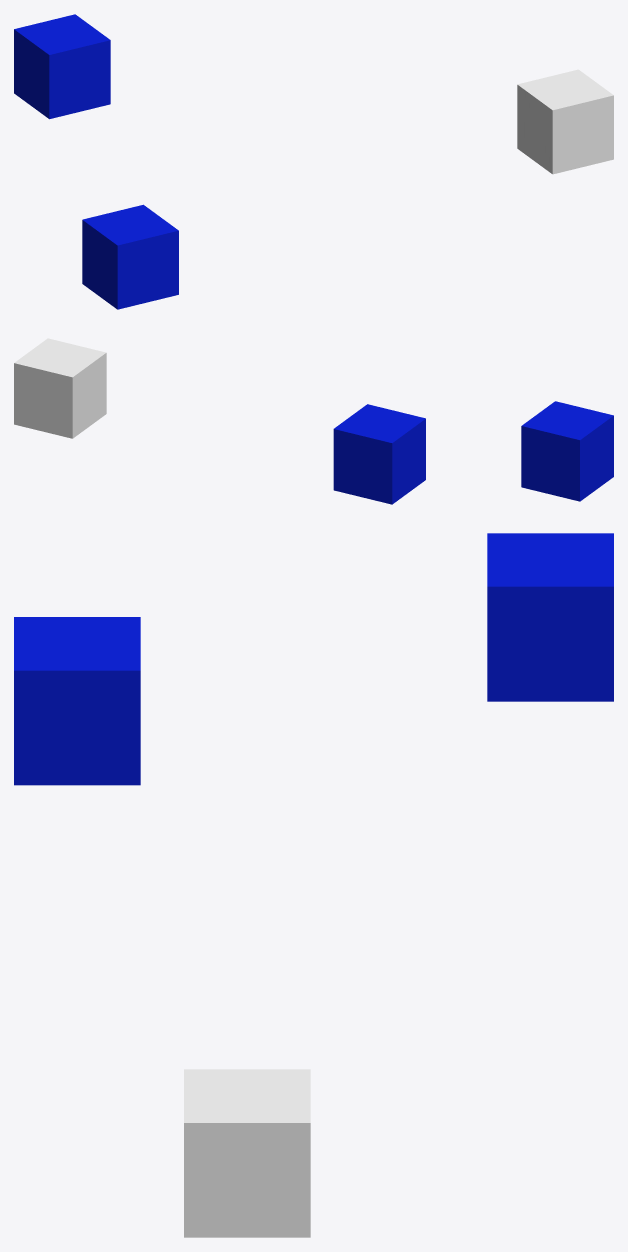
File: room1.temp.001.glb
3 renders of one model, top to bottom at view 1: azimuth 30°, elevation 25°; view 2: azimuth 150°, elevation 25°; view 3: azimuth 270°, elevation 25°, orthographic. The views are drawn at different scales.
Visible parts, largest first — view 1: linkfrom, linkalt, linkto; view 2: linkfrom, linkto, linkalt; view 3: linkfrom, linkto, linkalt.
Boxes of the visible parts, x1=… form: linkfrom: x1=517, y1=69, x2=613, y2=174; linkalt: x1=14, y1=14, x2=110, y2=119; linkto: x1=82, y1=204, x2=178, y2=309; linkfrom: x1=14, y1=338, x2=106, y2=438; linkto: x1=521, y1=401, x2=613, y2=501; linkalt: x1=333, y1=404, x2=425, y2=504; linkfrom: x1=184, y1=1069, x2=310, y2=1237; linkto: x1=14, y1=617, x2=140, y2=785; linkalt: x1=487, y1=533, x2=613, y2=701.
Size of the model in its own units: 17.74 by 4.97 by 9.47.
